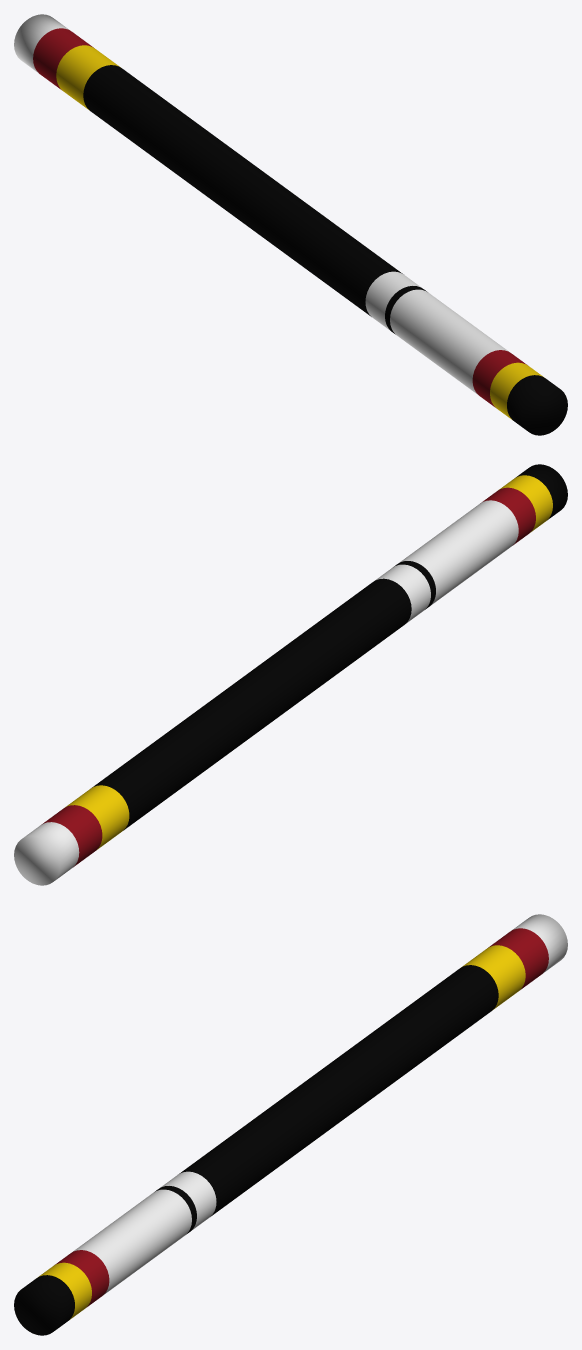
Rendered from ChildrensWand.fbx.
The picture shows the model from 3 angles, top to bottom: view 1: azimuth 30°, elevation 25°; view 2: azimuth 150°, elevation 25°; view 3: azimuth 330°, elevation 25°; orthographic projection.
Parts seen in each view (by area): view 1: ChildsWand; view 2: ChildsWand; view 3: ChildsWand.
Boxes of the visible parts, x1,y1,x2,y2 form: ChildsWand: (14,14,567,435); ChildsWand: (14,464,567,885); ChildsWand: (14,914,567,1335).
Bounding box in the file's own units: 43.43 × 2.28 × 2.28.
